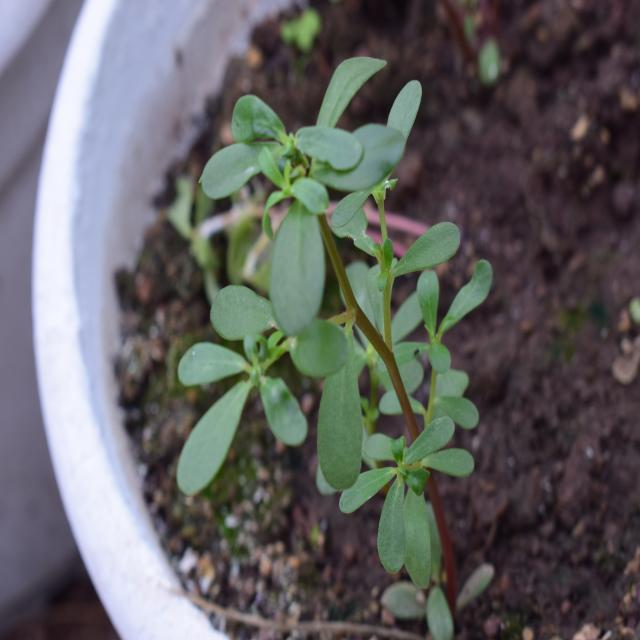purslane: (160, 49, 510, 596)
